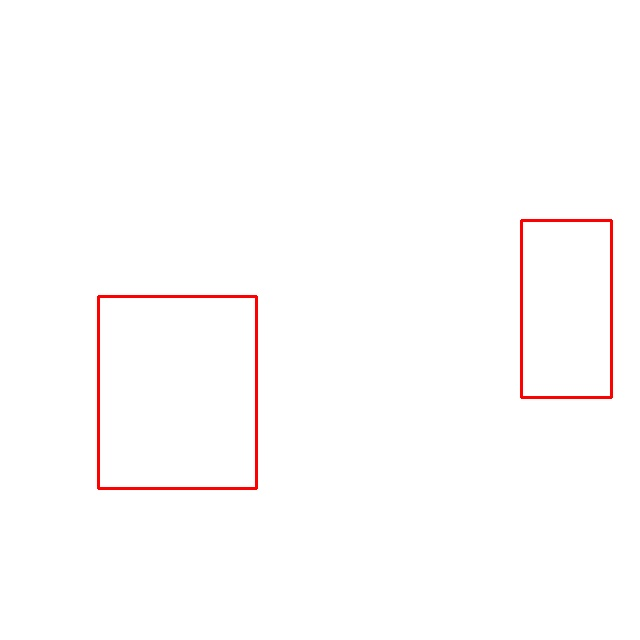weapon: (98, 296, 257, 488), (522, 221, 612, 398)
